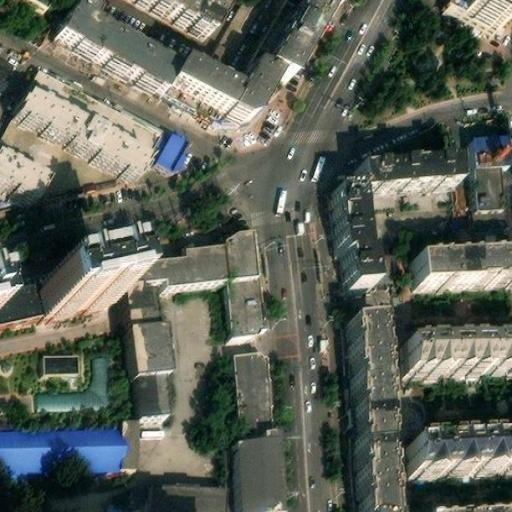building: (22, 61, 169, 176), (56, 0, 178, 87), (9, 92, 135, 176), (344, 309, 388, 512), (262, 0, 330, 74), (409, 432, 512, 477), (169, 56, 242, 114), (328, 186, 369, 287), (401, 332, 512, 369), (37, 255, 113, 306), (232, 432, 277, 512), (356, 158, 454, 192), (228, 62, 282, 122), (414, 249, 512, 282), (235, 343, 275, 423), (162, 234, 228, 278), (156, 474, 234, 510), (125, 251, 167, 316), (212, 0, 259, 54), (130, 313, 171, 367), (229, 270, 264, 330), (135, 364, 175, 410), (225, 223, 259, 273), (475, 157, 504, 204), (154, 126, 188, 165), (474, 128, 512, 159), (430, 500, 512, 512), (122, 416, 141, 463), (44, 347, 81, 367)
